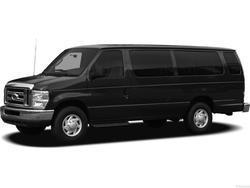car: (1, 45, 250, 145)
